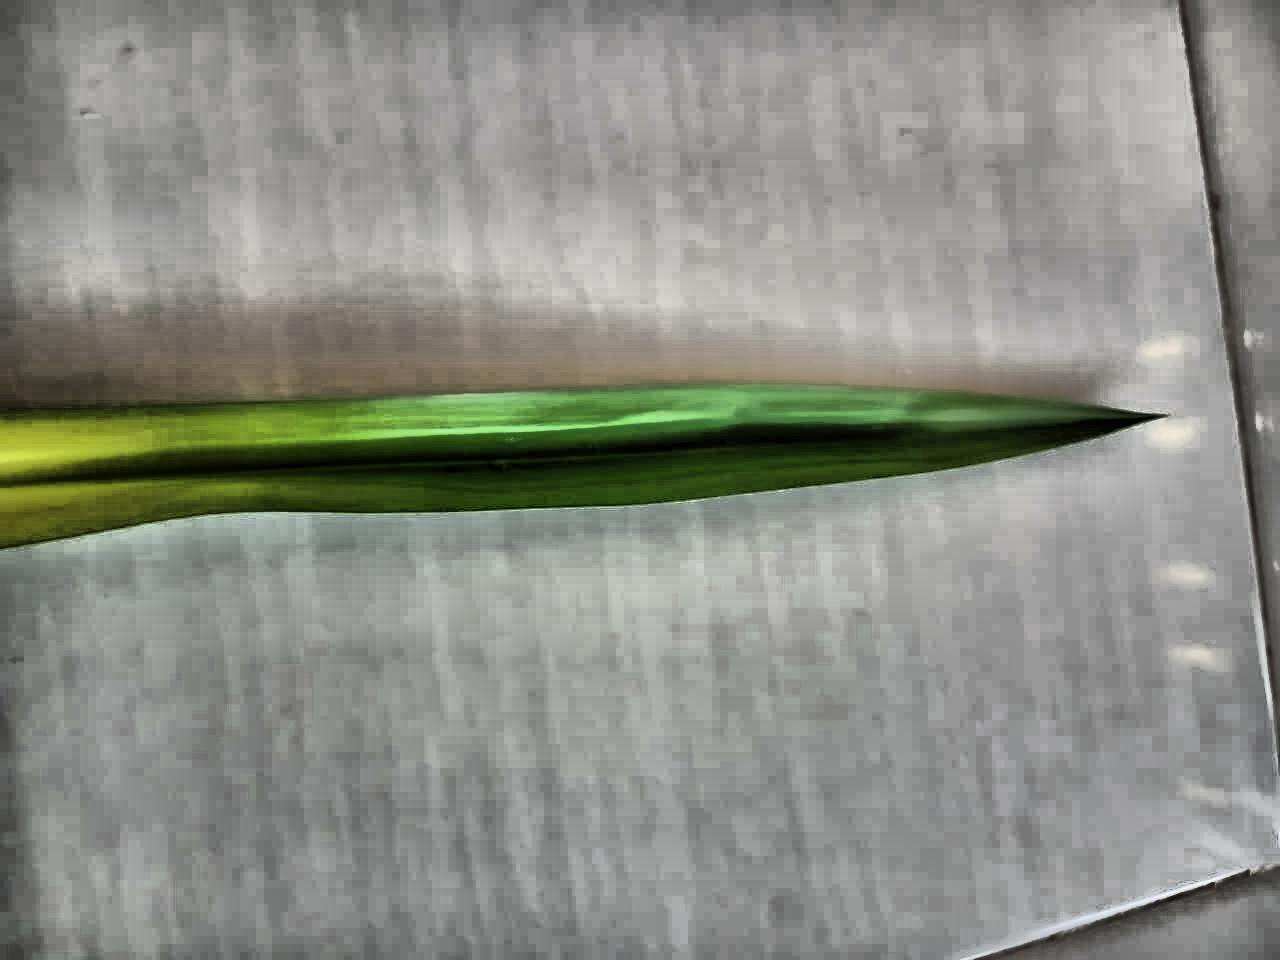daun pandan: (0, 384, 1155, 547)
